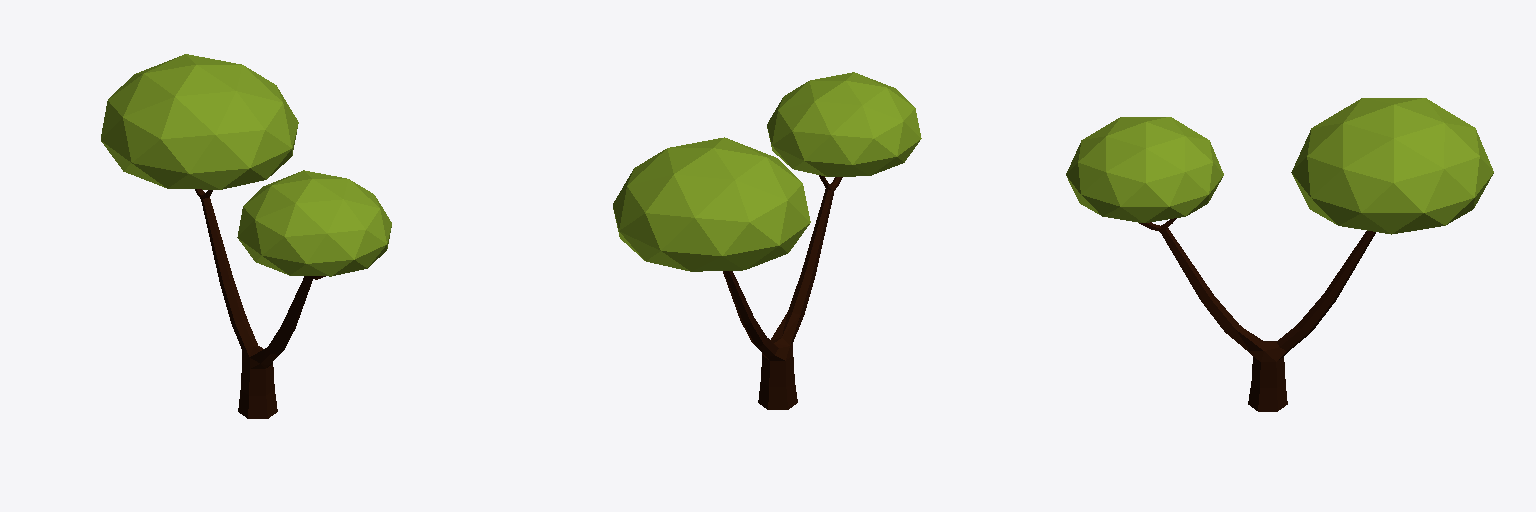
Rendered from Tree2.obj.
The picture shows the model from 3 angles: view 1: azimuth 30°, elevation 25°; view 2: azimuth 150°, elevation 25°; view 3: azimuth 270°, elevation 25°; orthographic projection.
Visible parts, largest first — view 1: Tree2_Icosphere.001; view 2: Tree2_Icosphere.001; view 3: Tree2_Icosphere.001.
Part boxes in pixels (x1,y1,x2,y2): Tree2_Icosphere.001: (101,54,391,418); Tree2_Icosphere.001: (613,72,921,409); Tree2_Icosphere.001: (1066,98,1493,411).
Size of the model in its own units: 2.89 by 4.98 by 6.43.